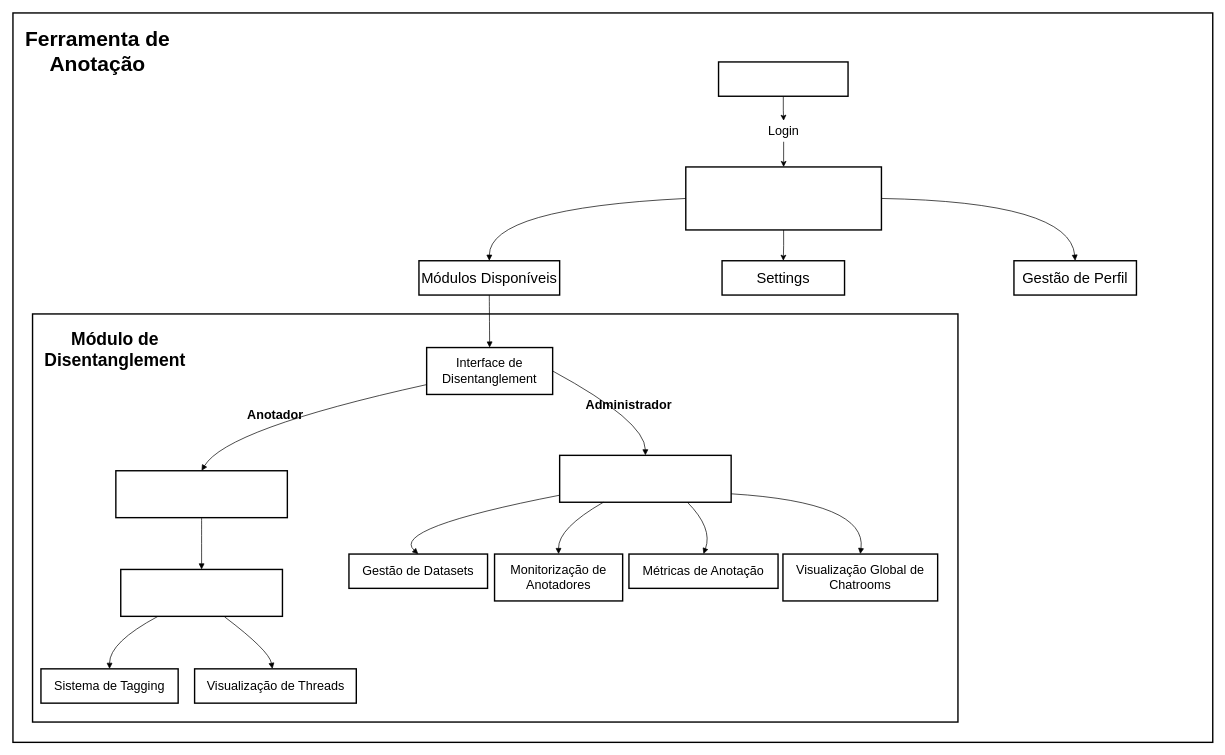
Image size: 1225x755. Some labels were removed from this diagram. The centre of each missing label's shape, as x and y in pixels:
"Admin Workspace - Painel de Administração" belongs at point 645,478.
"ChatView - Interface de Anotação" belongs at point 201,592.
"Dashboard Principal - Ferramenta de Anotação" belongs at point 783,198.
"Portal de Login" belongs at point 783,79.
"User Workspace - Lista de Chatrooms Atribuídas" belongs at point 201,494.
